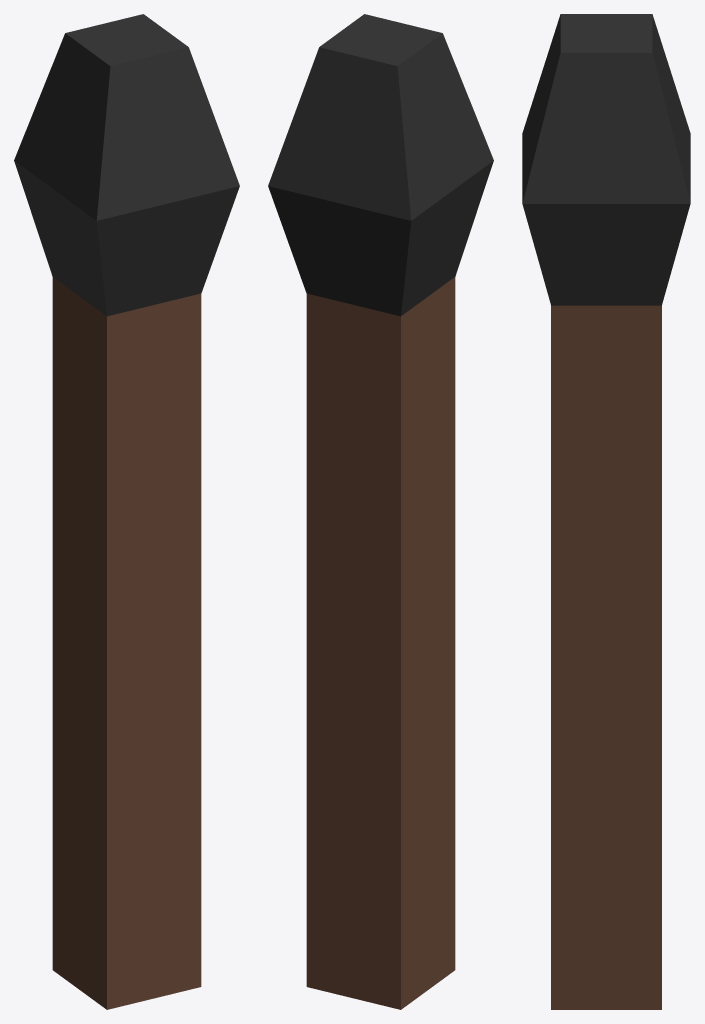
File: Torch.fbx
3 renders of one model, left to right at view 1: azimuth 30°, elevation 25°; view 2: azimuth 150°, elevation 25°; view 3: azimuth 270°, elevation 25°, orthographic.
Visible parts, largest first — view 1: Cube.002; view 2: Cube.002; view 3: Cube.002.
Boxes of the visible parts, x1,y1,x2,y2 form: Cube.002: (14, 14, 239, 1009); Cube.002: (268, 14, 493, 1009); Cube.002: (522, 14, 690, 1009).
Size of the model in its own units: 109 by 680 by 109.
